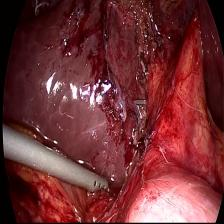Irrigator: (82, 168, 110, 198)
